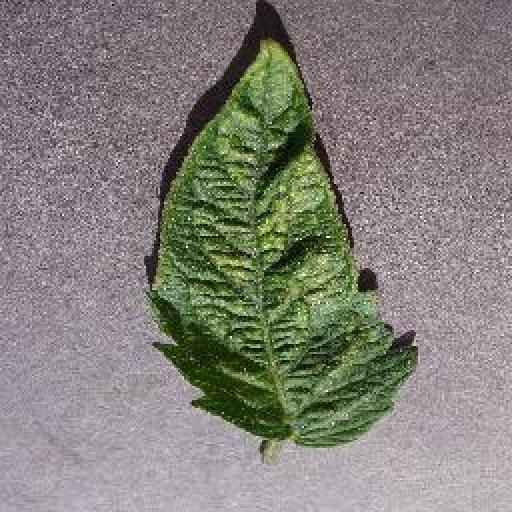Spider Mites: (140, 34, 424, 442)
